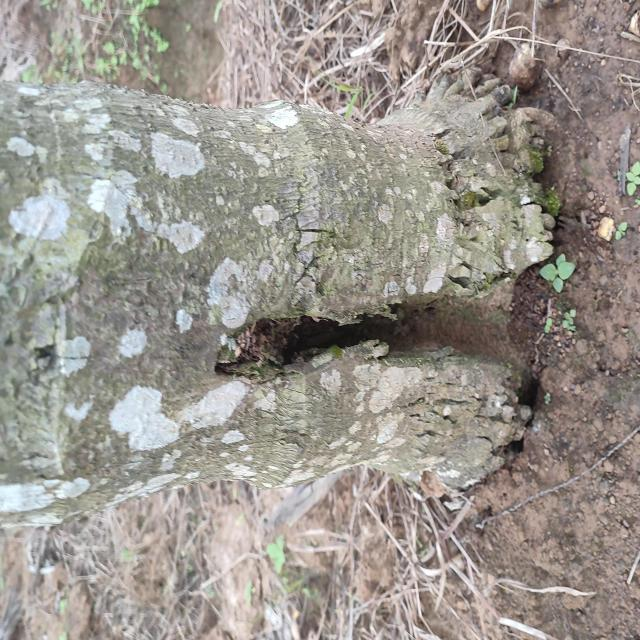Stem_Cracking: (163, 96, 582, 542)
